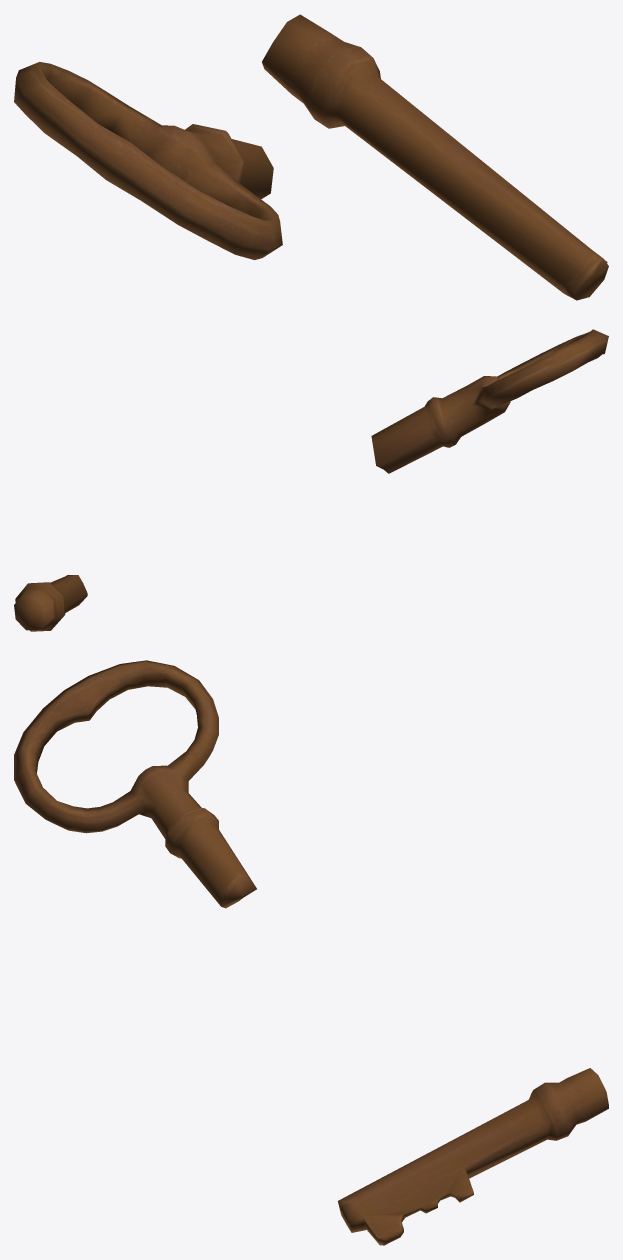
The model's file is Key broken in half.fbx.
3 views of the same model, one above another, from view 1: azimuth 30°, elevation 25°; view 2: azimuth 150°, elevation 25°; view 3: azimuth 270°, elevation 25° (orthographic). The views are drawn at different scales.
Visible parts, largest first — view 1: tripo_node_6488d387-a4f3-4776-af75-de789e32b293.001, tripo_node_6488d387-a4f3-4776-af75-de789e32b293; view 2: tripo_node_6488d387-a4f3-4776-af75-de789e32b293, tripo_node_6488d387-a4f3-4776-af75-de789e32b293.001; view 3: tripo_node_6488d387-a4f3-4776-af75-de789e32b293, tripo_node_6488d387-a4f3-4776-af75-de789e32b293.001.
Part boxes in pixels (box(x1,y1,x2,y2)): tripo_node_6488d387-a4f3-4776-af75-de789e32b293.001: box(262, 14, 608, 300); tripo_node_6488d387-a4f3-4776-af75-de789e32b293: box(14, 62, 282, 259); tripo_node_6488d387-a4f3-4776-af75-de789e32b293: box(371, 329, 608, 473); tripo_node_6488d387-a4f3-4776-af75-de789e32b293.001: box(14, 575, 87, 631); tripo_node_6488d387-a4f3-4776-af75-de789e32b293: box(14, 660, 256, 908); tripo_node_6488d387-a4f3-4776-af75-de789e32b293.001: box(337, 1068, 608, 1245).
Bounding box in the file's own units: 99.41 × 63.48 × 99.8.
1 material, 1 textured.
